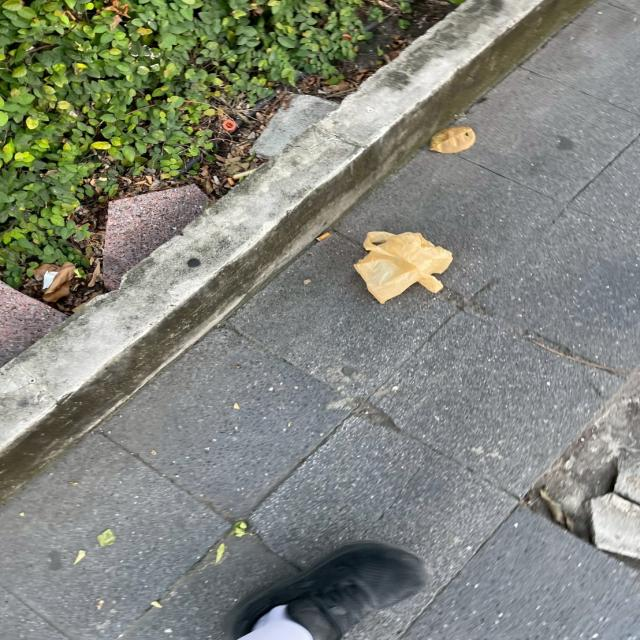plastic bag: (346, 222, 470, 307)
